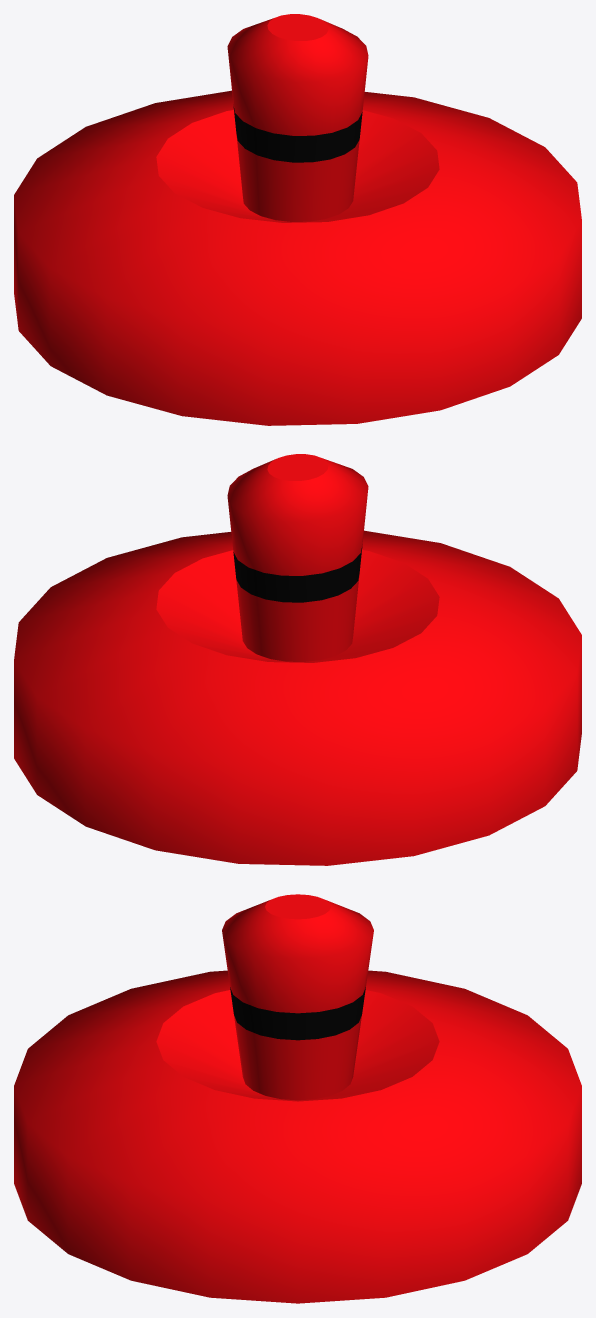
File: DSA2_AirHockey3D_Paddle_Revised_HongJ.obj
3 renders of one model, top to bottom at view 1: azimuth 30°, elevation 25°; view 2: azimuth 150°, elevation 25°; view 3: azimuth 270°, elevation 25°, orthographic.
Visible parts, largest first — view 1: pasted__pCylinder1 group; view 2: pasted__pCylinder1 group; view 3: pasted__pCylinder1 group.
Boxes of the visible parts, x1=… form: pasted__pCylinder1 group: x1=14, y1=14, x2=581, y2=425; pasted__pCylinder1 group: x1=14, y1=454, x2=581, y2=865; pasted__pCylinder1 group: x1=14, y1=894, x2=581, y2=1303.
Bounding box in the file's own units: 1.27 × 0.6849 × 1.27.
